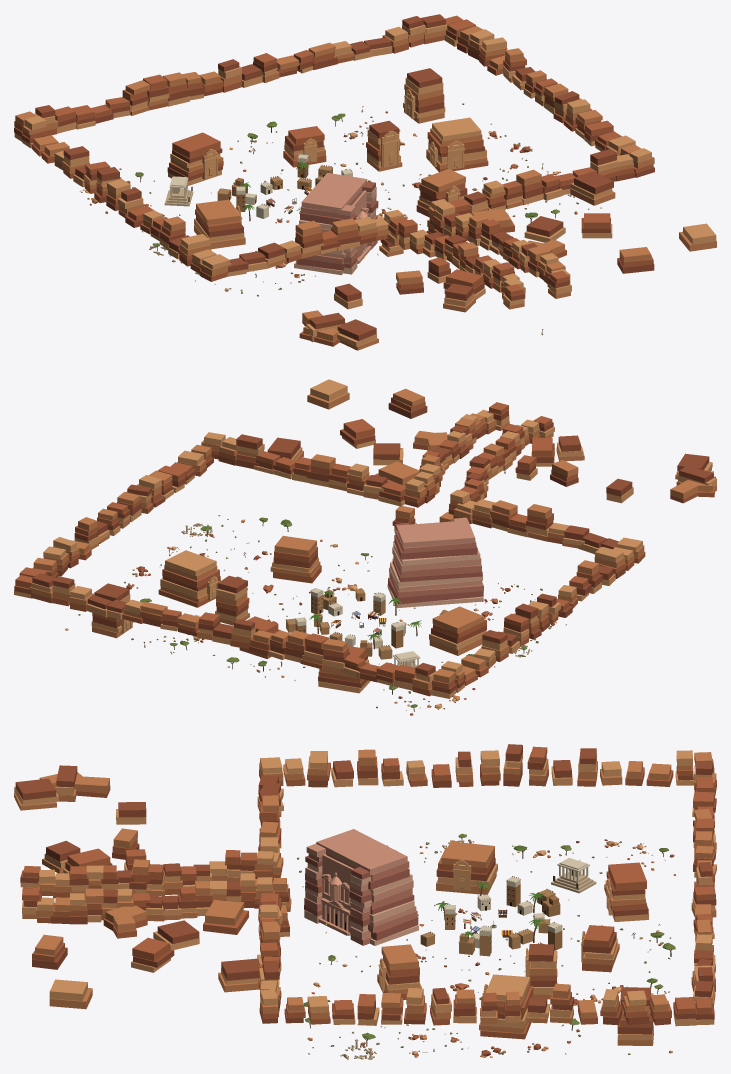
The model's file is town.glb.
3 views of the same model, one above another, from view 1: azimuth 30°, elevation 25°; view 2: azimuth 150°, elevation 25°; view 3: azimuth 270°, elevation 25° (orthographic). The views are drawn at different scales.
Visible parts, largest first — view 1: Town; view 2: Town; view 3: Town.
Boxes of the visible parts, bbox=[...] form: Town: bbox=[14, 14, 716, 350]; Town: bbox=[14, 379, 716, 715]; Town: bbox=[14, 744, 716, 1059].
Bounding box in the file's own units: 269 × 42.7 × 317.
